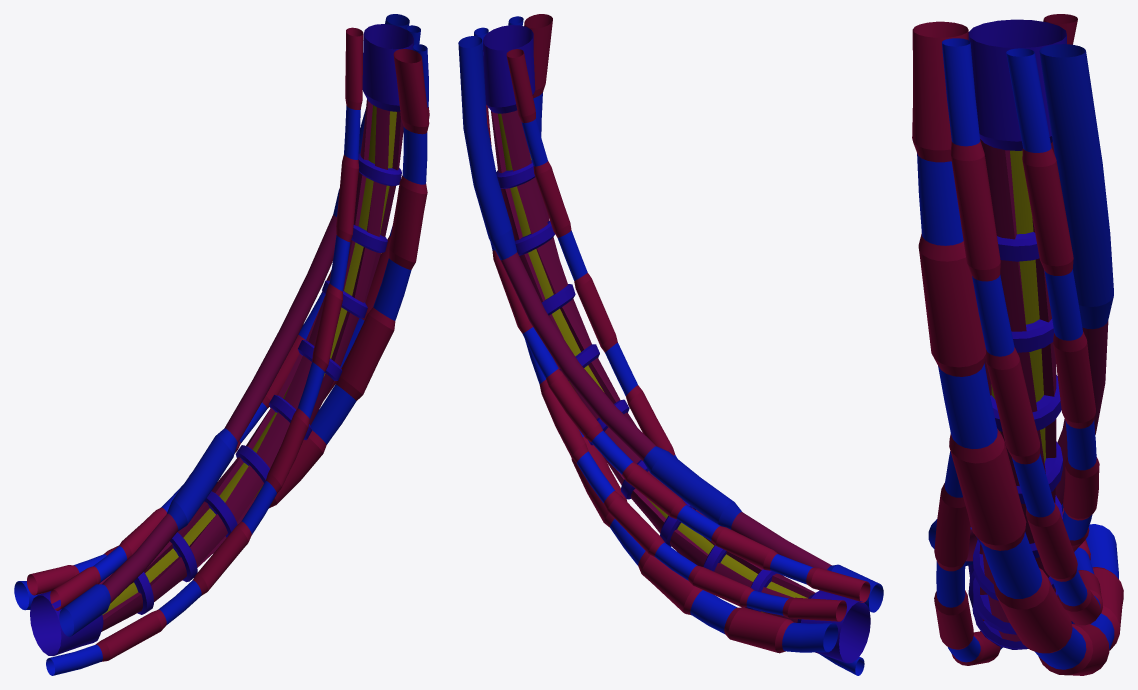
The model's file is OBJ_2_Cable.fbx.
The picture shows the model from 3 angles, left to right: view 1: azimuth 30°, elevation 25°; view 2: azimuth 150°, elevation 25°; view 3: azimuth 270°, elevation 25°; orthographic projection. The views are drawn at different scales.
Visible parts, largest first — view 1: OBJ_2_Cable; view 2: OBJ_2_Cable; view 3: OBJ_2_Cable.
Part boxes in pixels (left/top/right/bottom): OBJ_2_Cable: left=14, top=14, right=429, bottom=675; OBJ_2_Cable: left=458, top=14, right=883, bottom=675; OBJ_2_Cable: left=912, top=14, right=1123, bottom=675.
Bounding box in the file's own units: 5.74 × 8.06 × 1.78.
